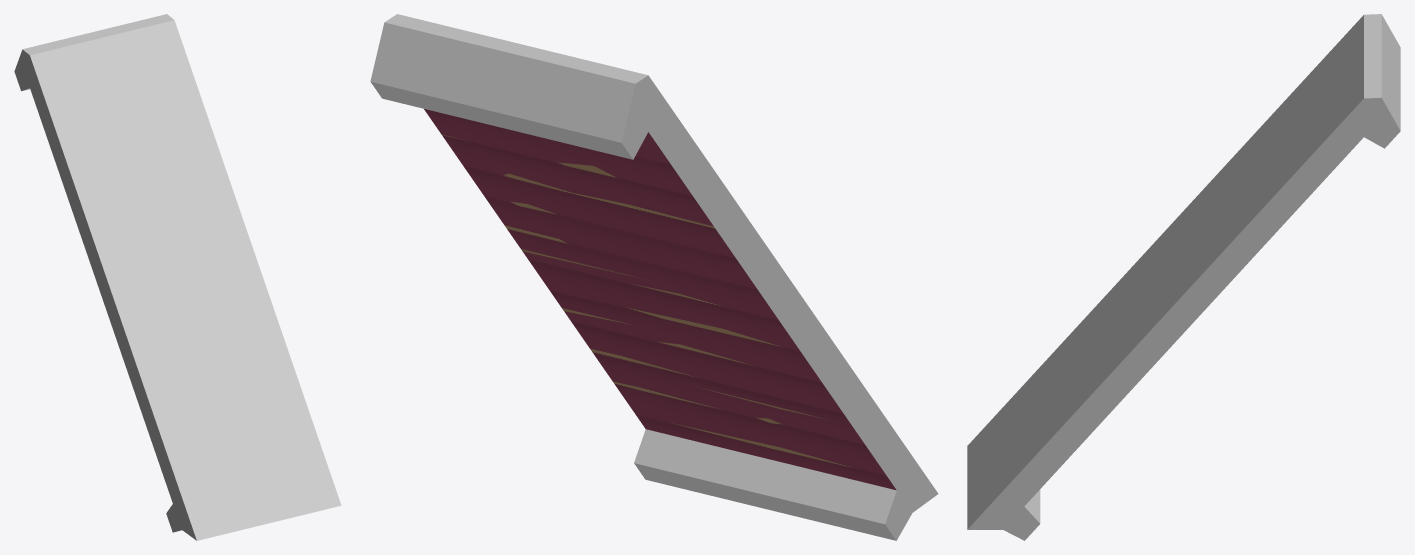
The model's file is SM_Bld_Roof_Straight_Half_01.fbx.
The picture shows the model from 3 angles, left to right: view 1: azimuth 30°, elevation 25°; view 2: azimuth 150°, elevation 25°; view 3: azimuth 270°, elevation 25°; orthographic projection. The views are drawn at different scales.
Parts seen in each view (by area): view 1: SM_Bld_Roof_Straight_Half_01; view 2: SM_Bld_Roof_Straight_Half_01; view 3: SM_Bld_Roof_Straight_Half_01.
Part boxes in pixels (<box>): SM_Bld_Roof_Straight_Half_01: <box>14,14,341,540</box>; SM_Bld_Roof_Straight_Half_01: <box>370,14,938,540</box>; SM_Bld_Roof_Straight_Half_01: <box>967,14,1400,540</box>.
Size of the model in its own units: 125 by 308 by 273.
